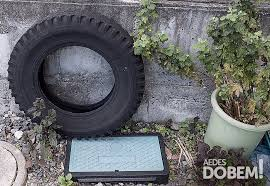tire: (8, 12, 145, 141)
